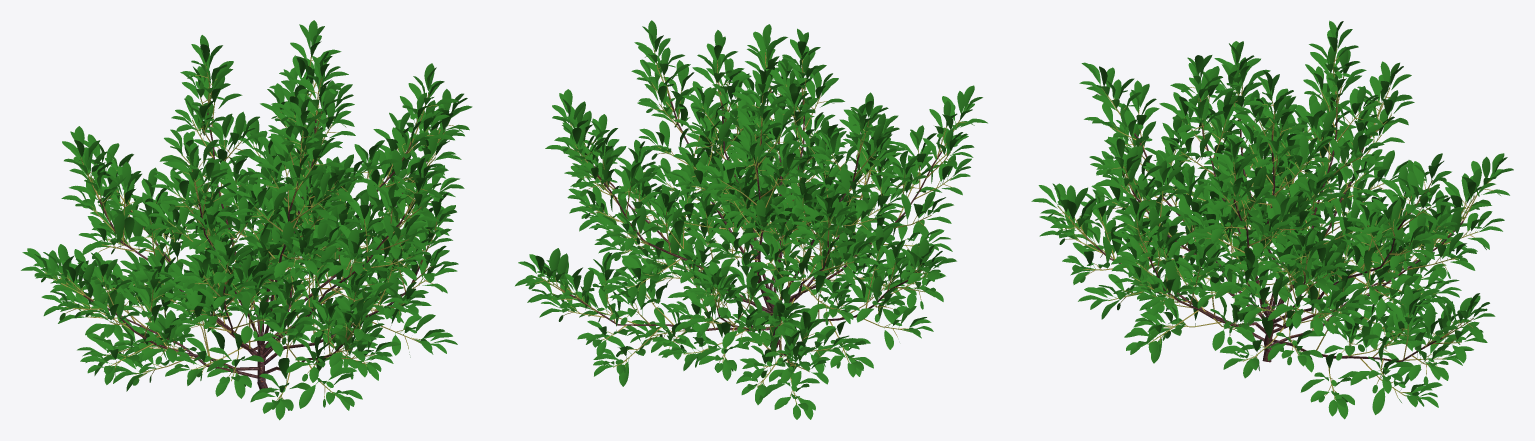
Rendered from Prunus pumila Besseyi001_LOW.FBX.
The picture shows the model from 3 angles, left to right: view 1: azimuth 30°, elevation 25°; view 2: azimuth 150°, elevation 25°; view 3: azimuth 270°, elevation 25°; orthographic projection. The views are drawn at different scales.
Parts seen in each view (by area): view 1: Prunus pumila Besseyi001_LOW; view 2: Prunus pumila Besseyi001_LOW; view 3: Prunus pumila Besseyi001_LOW.
Boxes of the visible parts, x1,y1,x2,y2 form: Prunus pumila Besseyi001_LOW: (21, 20, 472, 420); Prunus pumila Besseyi001_LOW: (515, 20, 987, 419); Prunus pumila Besseyi001_LOW: (1031, 20, 1513, 419).
Bounding box in the file's own units: 1027 × 768 × 997.
